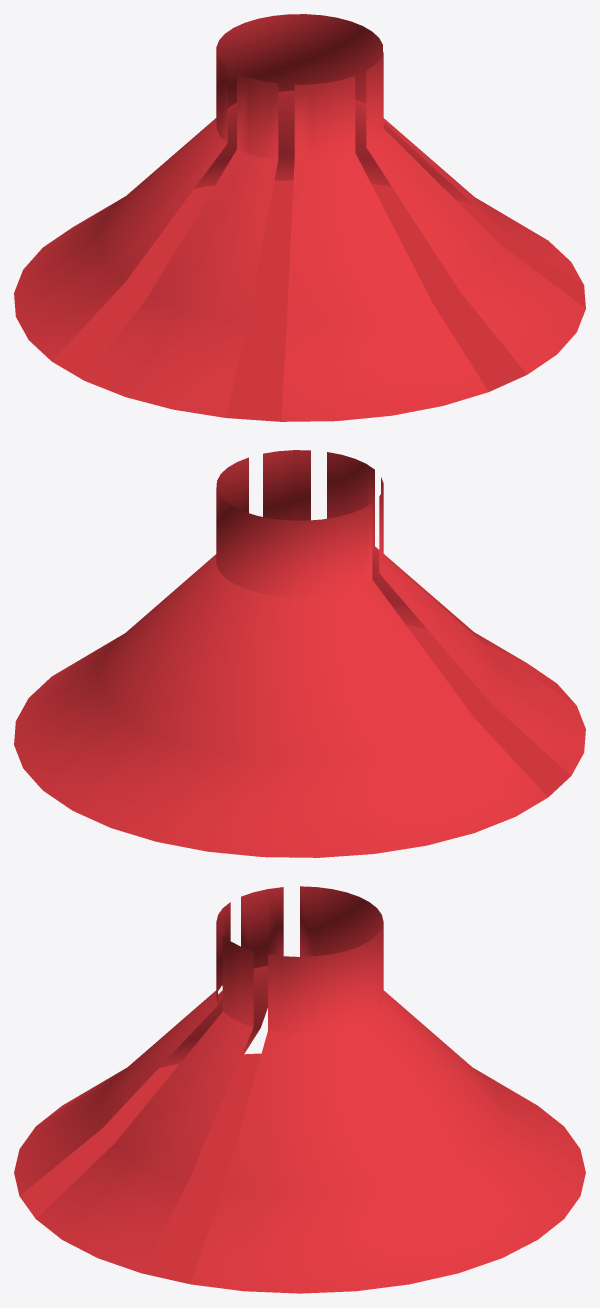
Rendered from ColonyHouse3.fbx.
The picture shows the model from 3 angles, top to bottom: view 1: azimuth 30°, elevation 25°; view 2: azimuth 150°, elevation 25°; view 3: azimuth 270°, elevation 25°; orthographic projection.
Parts seen in each view (by area): view 1: Cone; view 2: Cone; view 3: Cone.
Boxes of the visible parts, box(x1,y1,x2,y2) form: Cone: box(14, 14, 585, 421); Cone: box(14, 450, 585, 857); Cone: box(14, 886, 585, 1293).
Bounding box in the file's own units: 200 × 96.88 × 200.
